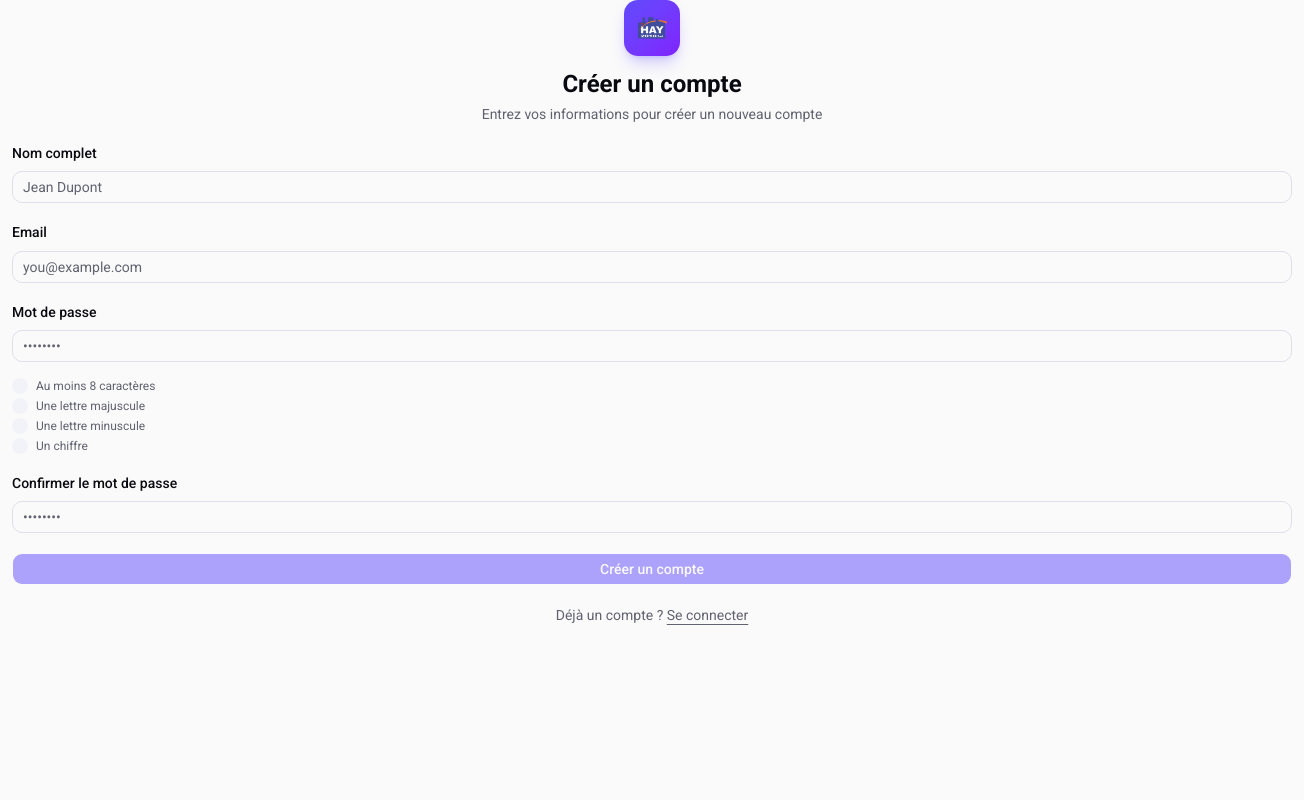
Test: RegisterForm › should show password mismatch error when confirm password differs
The image size is (1304, 800).
Step 1. Type "Password123" into the password field labelled "Mot de passe" → (652, 346), box [12,330,1292,362]
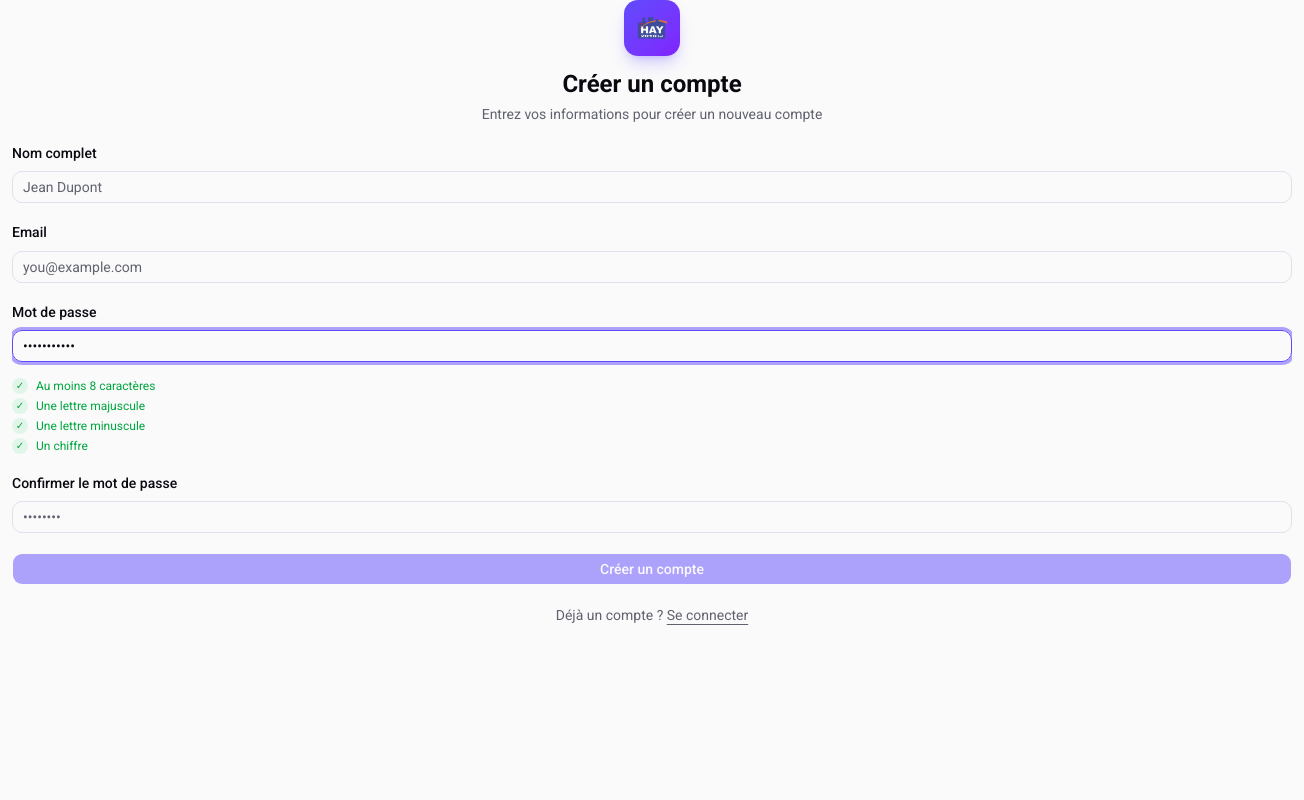
Step 2. Type "Different123" into the password field labelled "Confirmer le mot de passe" → (652, 517), box [12,501,1292,533]
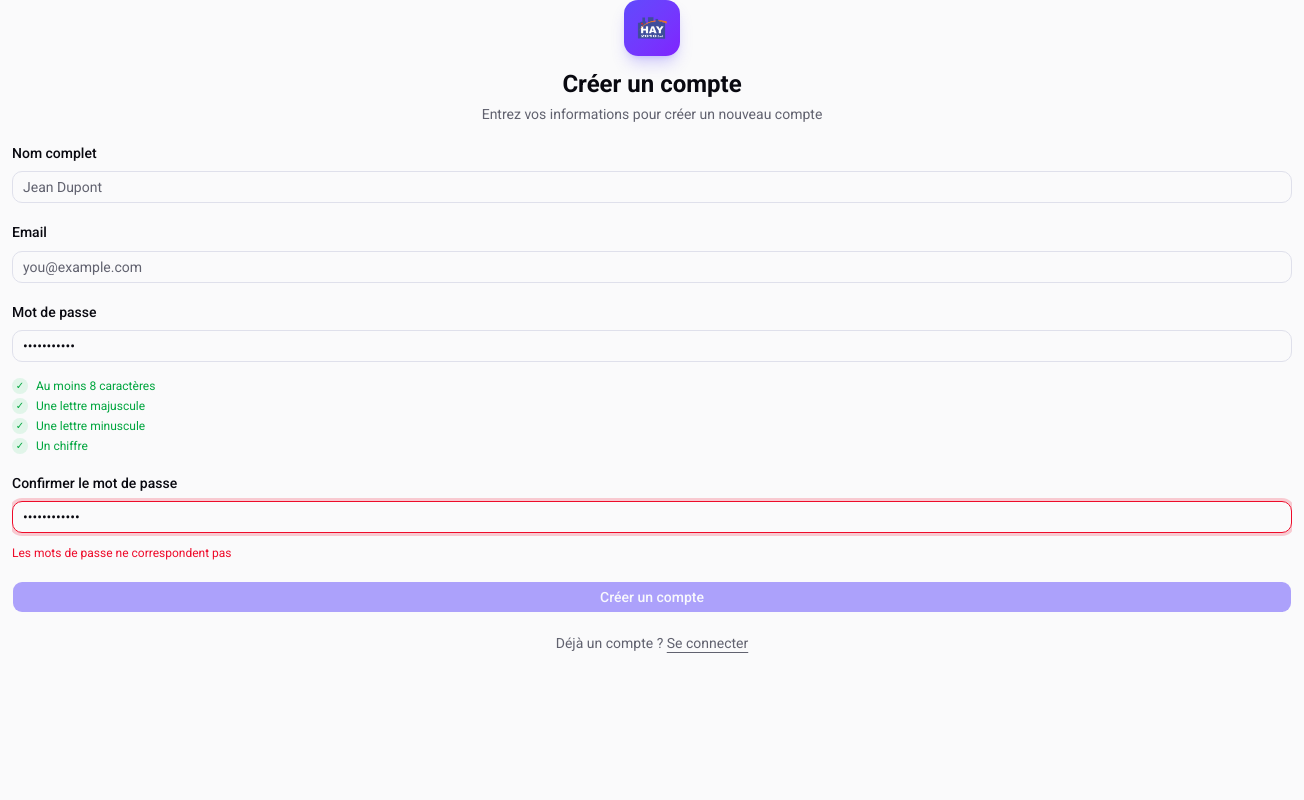
Expected: the text "Les mots de passe ne correspondent pas" is shown, [12,546,232,560]
